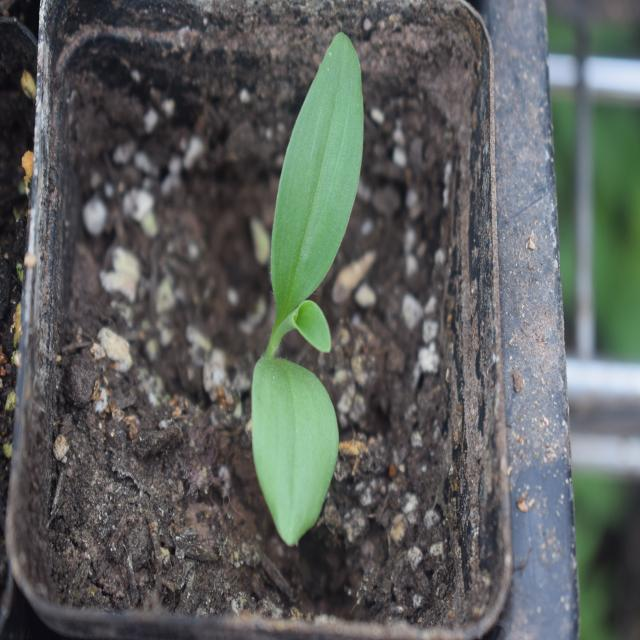Common Dayflower: (267, 21, 381, 548)
